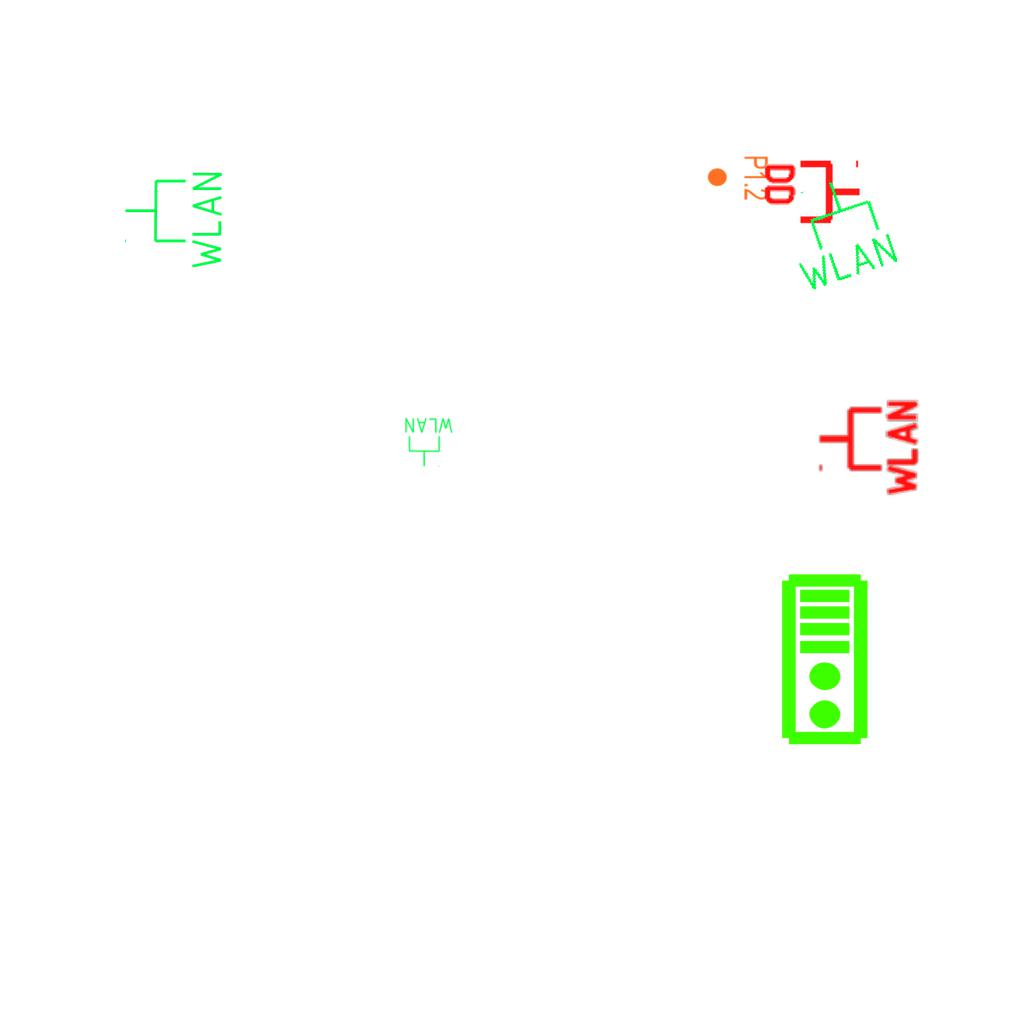Datenanschluss_zweifach: (760, 159, 863, 228)
Downlight_LED_Einbauleuchten_Flur: (706, 155, 770, 201)
Gegensprechanlage_mit_Video: (779, 572, 874, 748)
WLAN: (770, 165, 904, 298), (122, 168, 226, 273), (815, 396, 920, 500), (403, 416, 455, 468)
